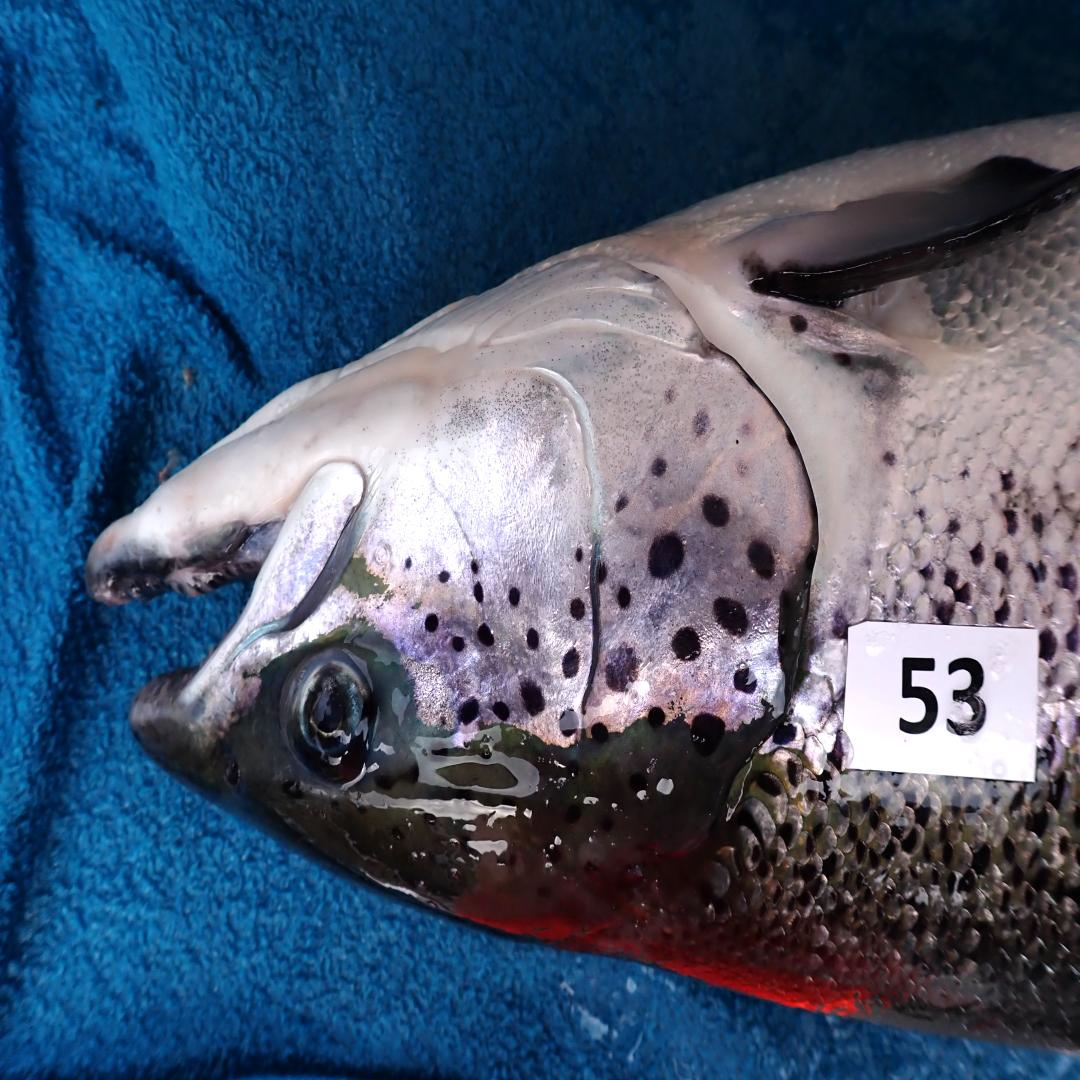roi: (355, 246, 819, 745)
